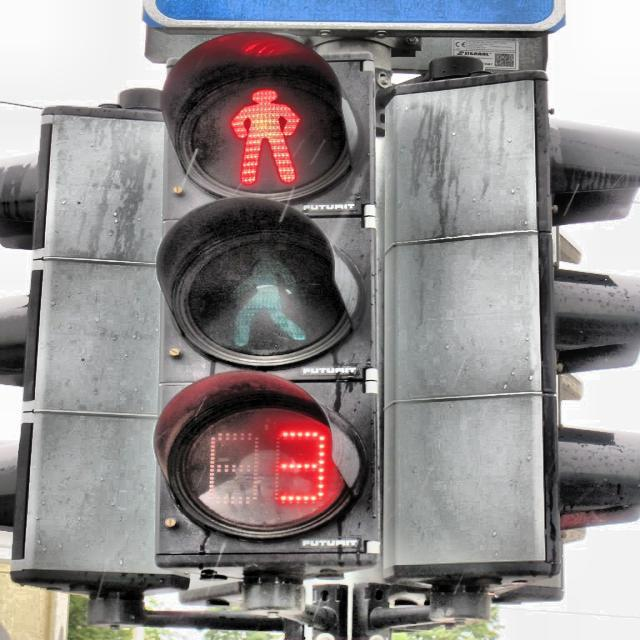red_light: (225, 82, 306, 190)
